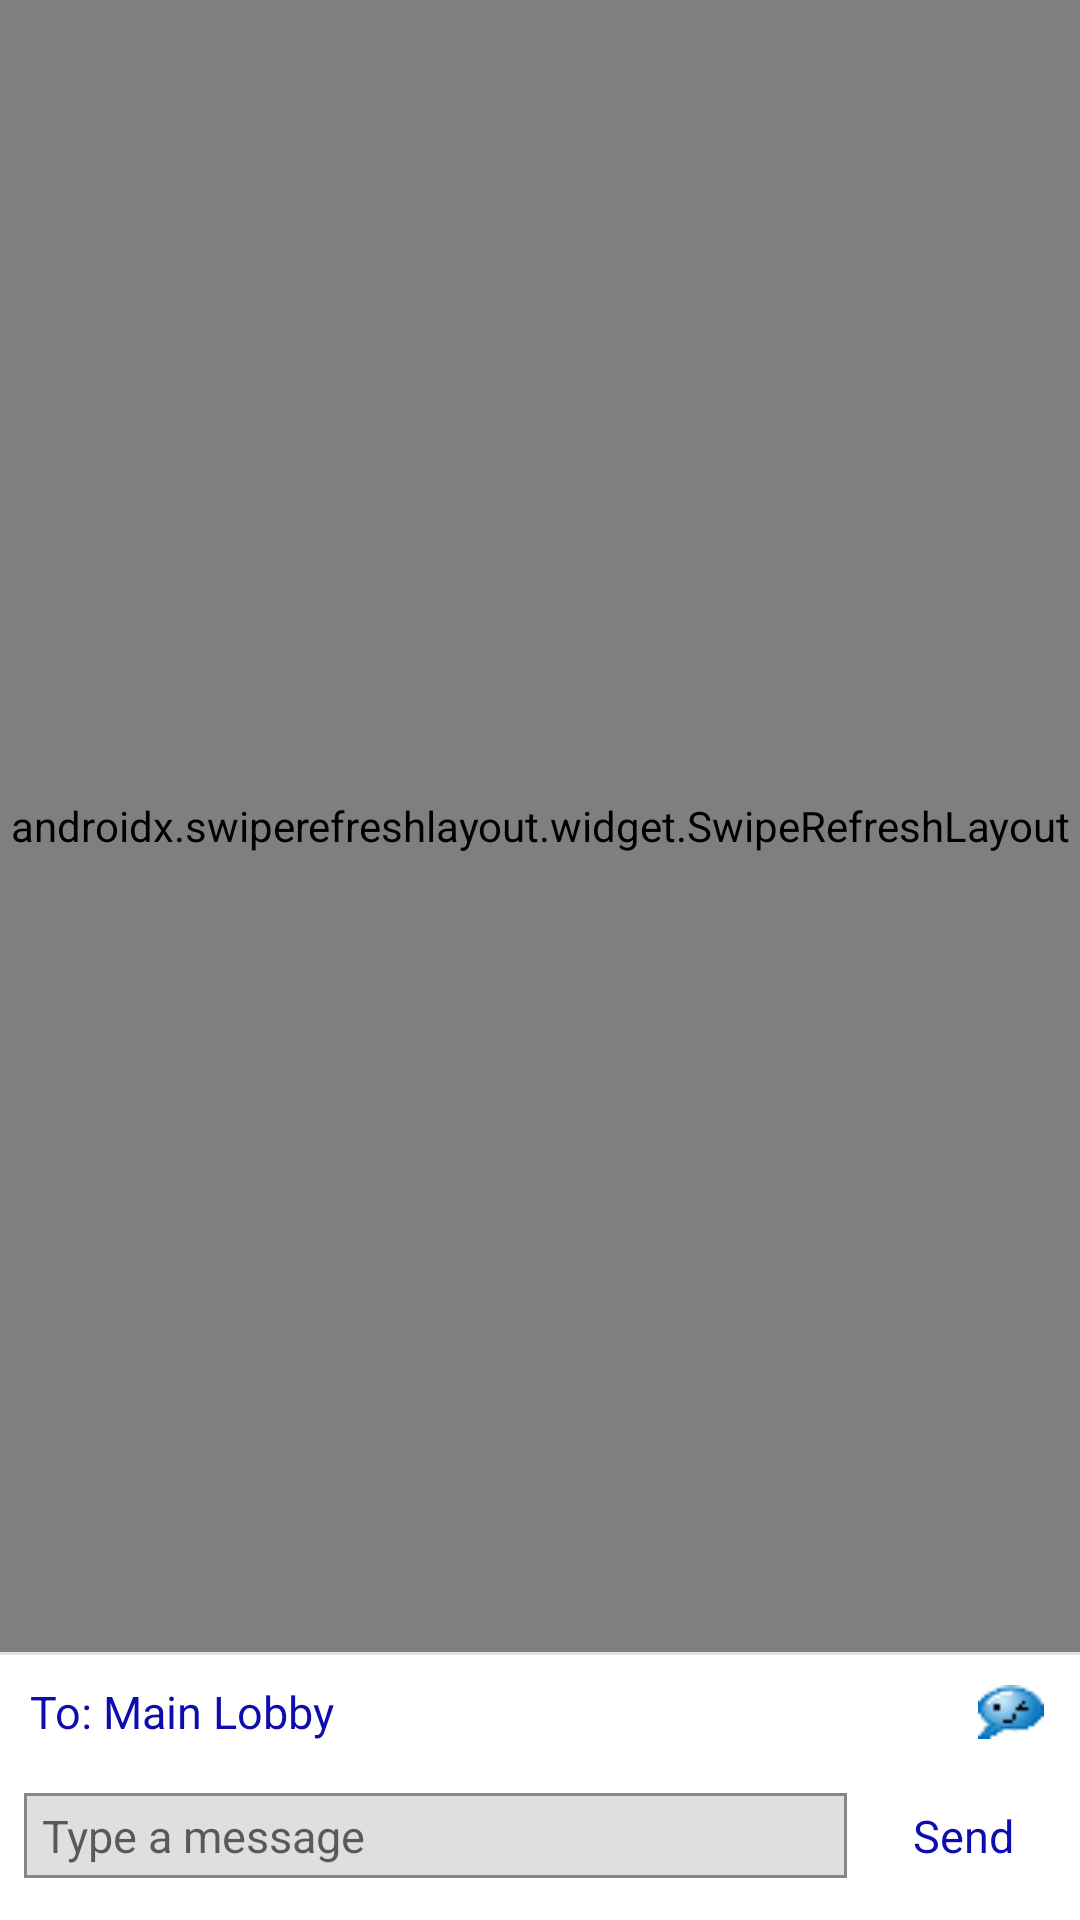

Named icons in this screenshot (1080px x 1920px) and their centers, [x,y]:
Add Emoticon: [1011,1712]
